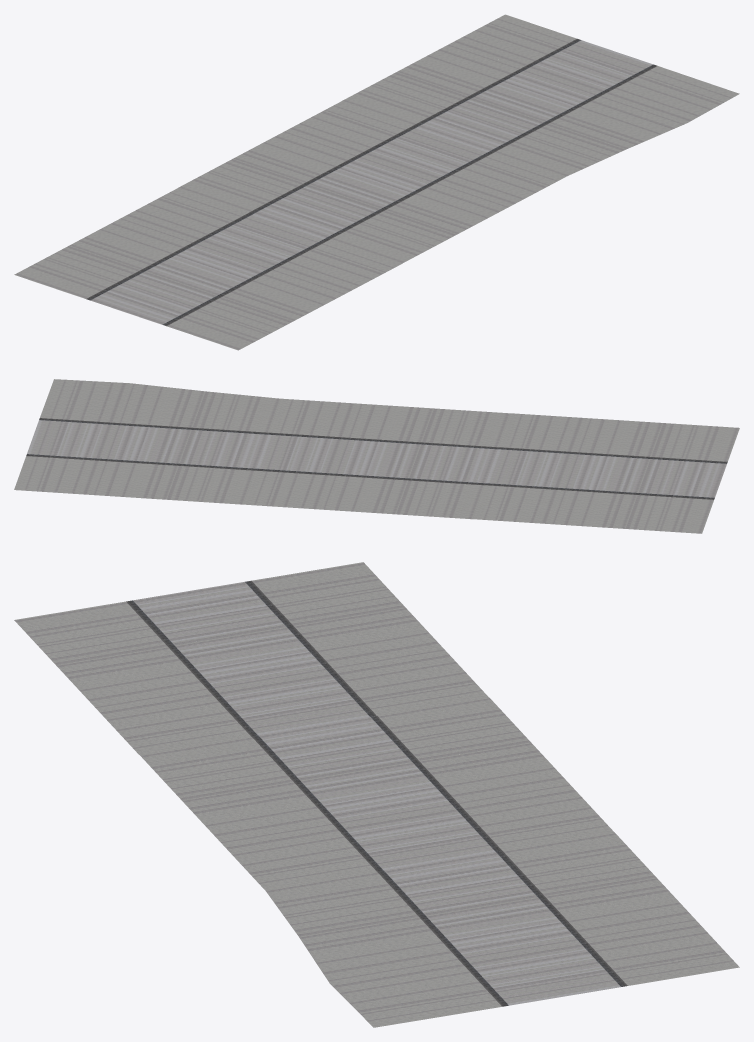
Rendered from KT_AM_away.FBX.
3 renders of one model, top to bottom at view 1: azimuth 30°, elevation 25°; view 2: azimuth 150°, elevation 25°; view 3: azimuth 270°, elevation 25°, orthographic. The views are drawn at different scales.
Visible parts, largest first — view 1: Side_C_var_060, Side_B_var_062, Side_A_var_062, Side_B_var_061, KT_B_var_030, Side_B_var_058, Side_C_var_056, KT_C_var_029, Side_B_var_060, Side_C_var_059, KT_B_var_028, KT_C_var_028 (+15 smaller); view 2: Side_C_var_060, Side_B_var_062, Side_A_var_062, KT_B_var_028, Side_A_var_057, KT_C_var_030, KT_A_var_028, Side_A_var_058, Side_B_var_057, Side_B_var_058, Side_C_var_057, Side_A_var_060 (+21 smaller); view 3: Side_C_var_060, Side_B_var_062, Side_A_var_062, Side_C_var_057, Side_C_var_061, Side_C_var_056, KT_C_var_029, Side_A_var_059, KT_A_var_030, KT_A_var_028, Side_B_var_059, Side_B_var_061 (+21 smaller).
Boxes of the visible parts, x1=… form: Side_C_var_060: x1=603, y1=66, x2=739, y2=122; Side_B_var_062: x1=549, y1=95, x2=686, y2=149; Side_A_var_062: x1=494, y1=123, x2=625, y2=176; Side_B_var_061: x1=396, y1=43, x2=521, y2=96; KT_B_var_030: x1=473, y1=69, x2=598, y2=121; Side_B_var_058: x1=221, y1=268, x2=346, y2=321; Side_C_var_056: x1=276, y1=239, x2=401, y2=292; KT_C_var_029: x1=363, y1=127, x2=489, y2=179; Side_B_var_060: x1=385, y1=181, x2=510, y2=234; Side_C_var_059: x1=287, y1=101, x2=412, y2=154; KT_B_var_028: x1=145, y1=242, x2=270, y2=295; KT_C_var_028: x1=200, y1=214, x2=325, y2=266; Side_C_var_060: x1=40, y1=379, x2=129, y2=422; Side_B_var_062: x1=116, y1=383, x2=205, y2=427; Side_A_var_062: x1=193, y1=391, x2=280, y2=432; KT_B_var_028: x1=562, y1=454, x2=650, y2=492; Side_A_var_057: x1=625, y1=495, x2=713, y2=533; KT_C_var_030: x1=27, y1=420, x2=115, y2=458; KT_A_var_028: x1=638, y1=459, x2=726, y2=497; Side_A_var_058: x1=651, y1=423, x2=739, y2=461; Side_B_var_057: x1=549, y1=490, x2=637, y2=528; Side_B_var_058: x1=575, y1=418, x2=663, y2=456; Side_C_var_057: x1=473, y1=485, x2=561, y2=523; Side_A_var_060: x1=422, y1=408, x2=510, y2=447; Side_C_var_060: x1=330, y1=962, x2=501, y2=1027; Side_B_var_062: x1=299, y1=916, x2=460, y2=983; Side_A_var_062: x1=265, y1=871, x2=418, y2=936; Side_C_var_057: x1=335, y1=652, x2=488, y2=715; Side_C_var_061: x1=586, y1=922, x2=739, y2=985; Side_C_var_056: x1=98, y1=691, x2=250, y2=754; KT_C_var_029: x1=342, y1=807, x2=495, y2=870; Side_A_var_059: x1=377, y1=697, x2=530, y2=760; KT_A_var_030: x1=384, y1=852, x2=536, y2=915; KT_A_var_028: x1=133, y1=582, x2=286, y2=645; Side_B_var_059: x1=419, y1=742, x2=572, y2=805; Side_B_var_061: x1=545, y1=877, x2=697, y2=940.
Bounding box in the file's own units: 4481 × 1.81e-13 × 2952.
Materials: 7 (7 with a texture image).
